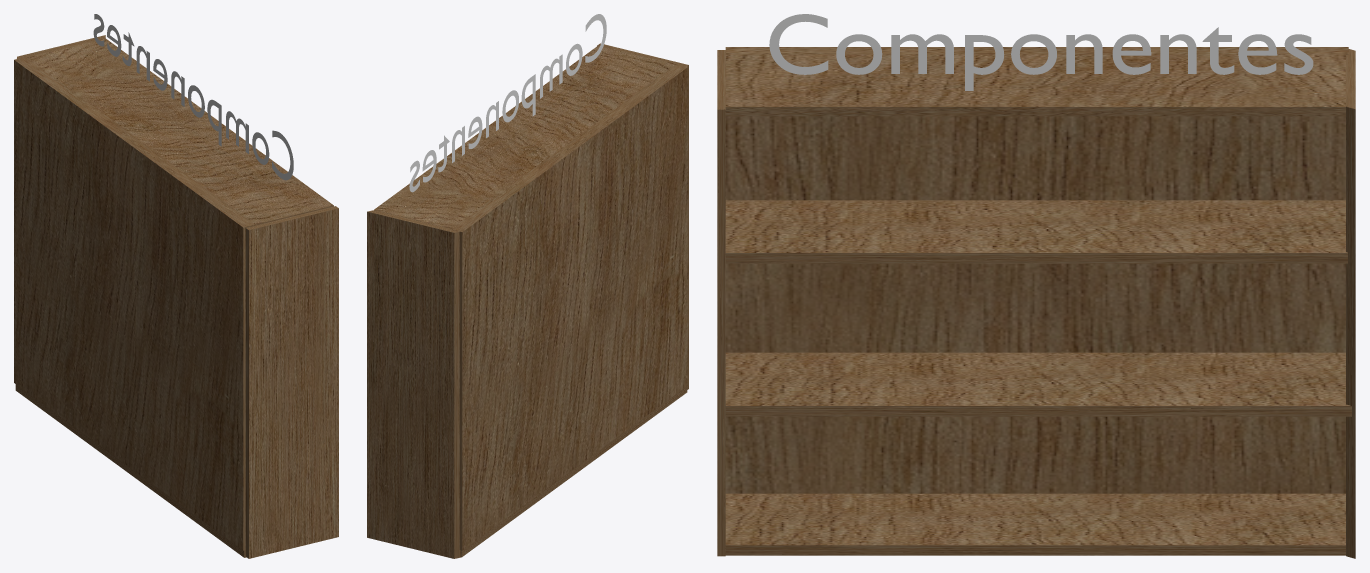
Rendered from estanteCponentes.glb.
3 renders of one model, left to right at view 1: azimuth 30°, elevation 25°; view 2: azimuth 150°, elevation 25°; view 3: azimuth 270°, elevation 25°, orthographic. The views are drawn at different scales.
Visible parts, largest first — view 1: Cube, Texto; view 2: Cube, Texto; view 3: Cube, Texto.
Part boxes in pixels (x1,y1,x2,y2): Cube: [14, 35, 338, 558]; Texto: [93, 14, 293, 180]; Cube: [367, 43, 688, 558]; Texto: [409, 14, 606, 192]; Cube: [717, 47, 1355, 558]; Texto: [769, 14, 1313, 90].
Size of the model in its own units: 1.54 by 6.06 by 6.66.
Materials: 2 (1 with a texture image).
